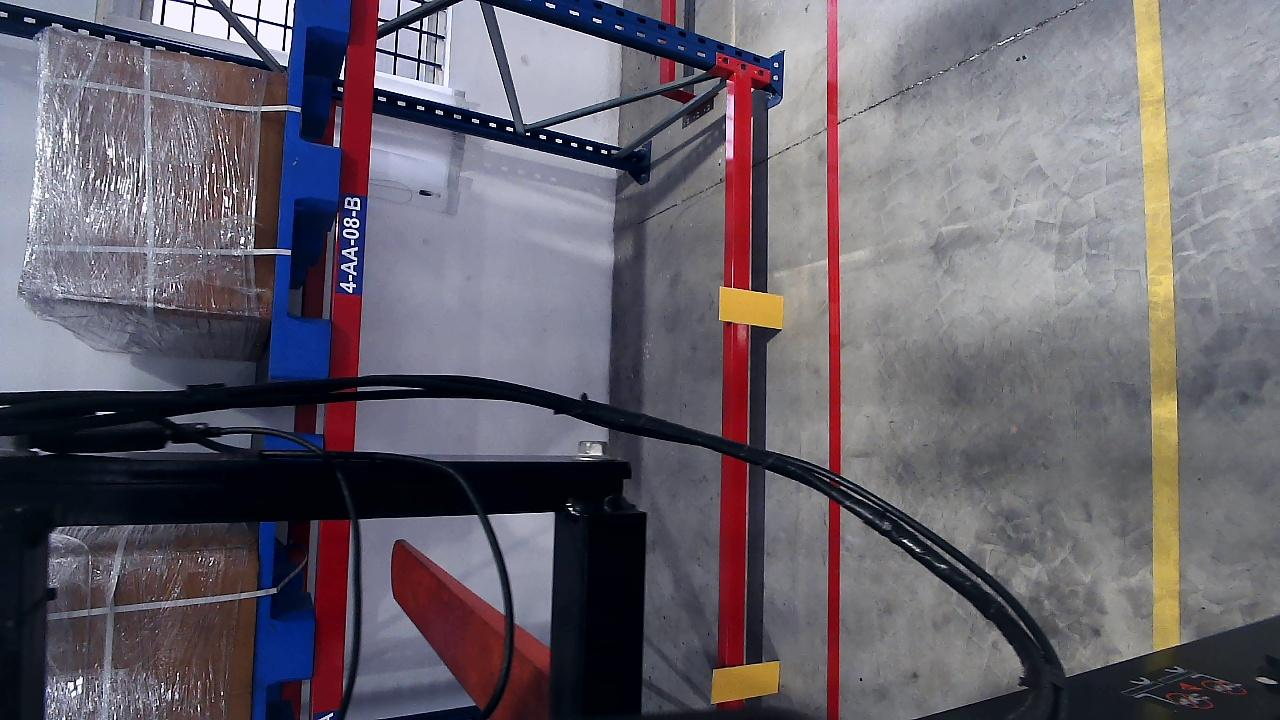h_rack: (325, 0, 382, 719), (727, 72, 758, 719)
orange_strip: (711, 660, 780, 702), (718, 287, 784, 329)
red_line: (822, 0, 844, 709)
small_pallet: (249, 524, 324, 717)
yellow_line: (1135, 1, 1181, 599)
